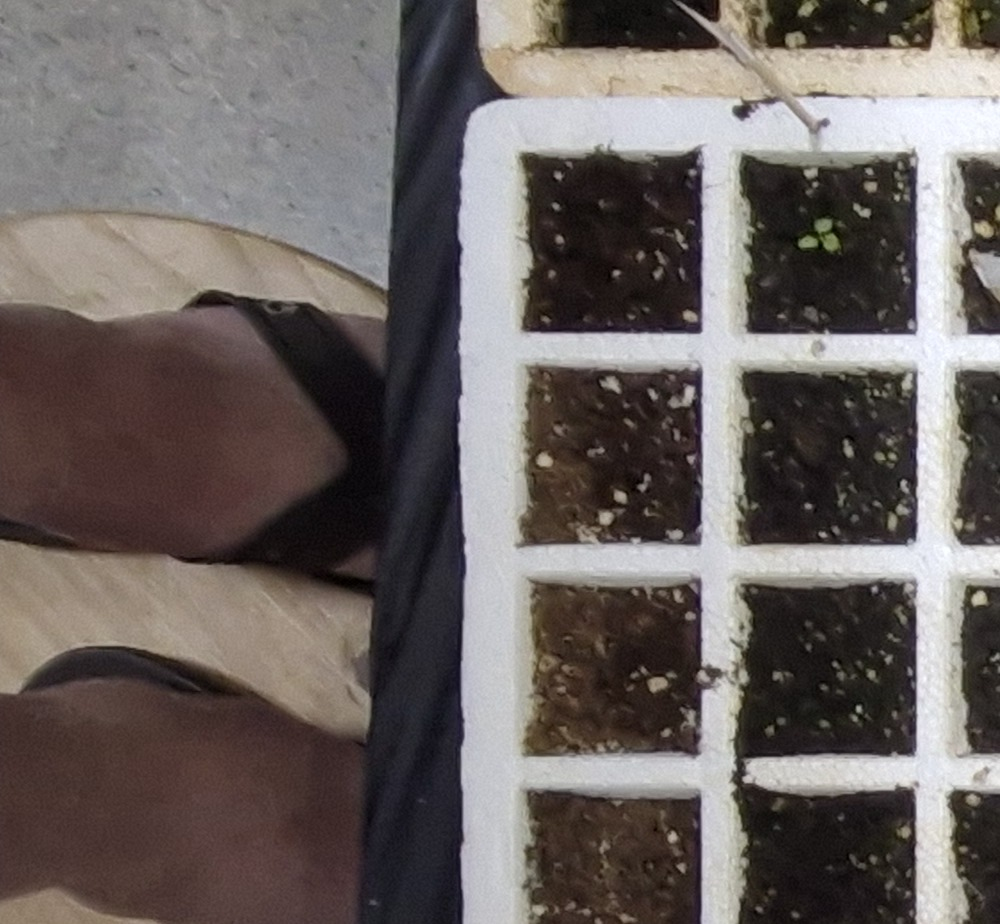Folha: (823, 233, 841, 250), (799, 236, 818, 248), (815, 219, 832, 232)
Germinacao: (800, 219, 841, 249)
